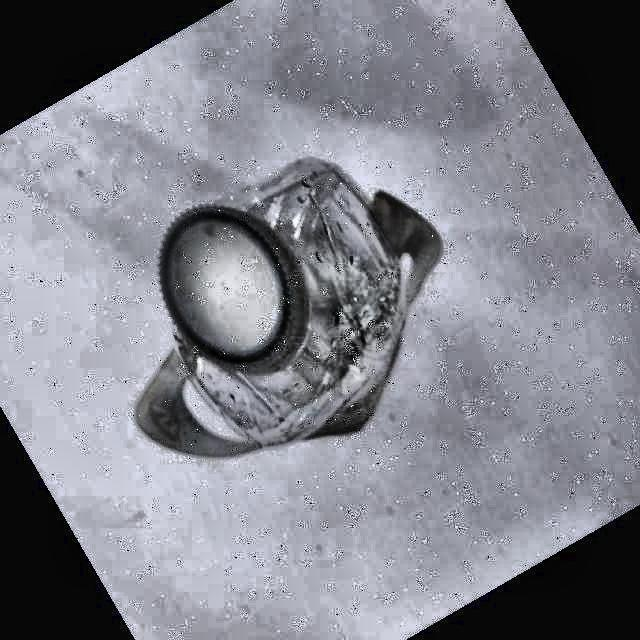plastic: (136, 159, 439, 457)
